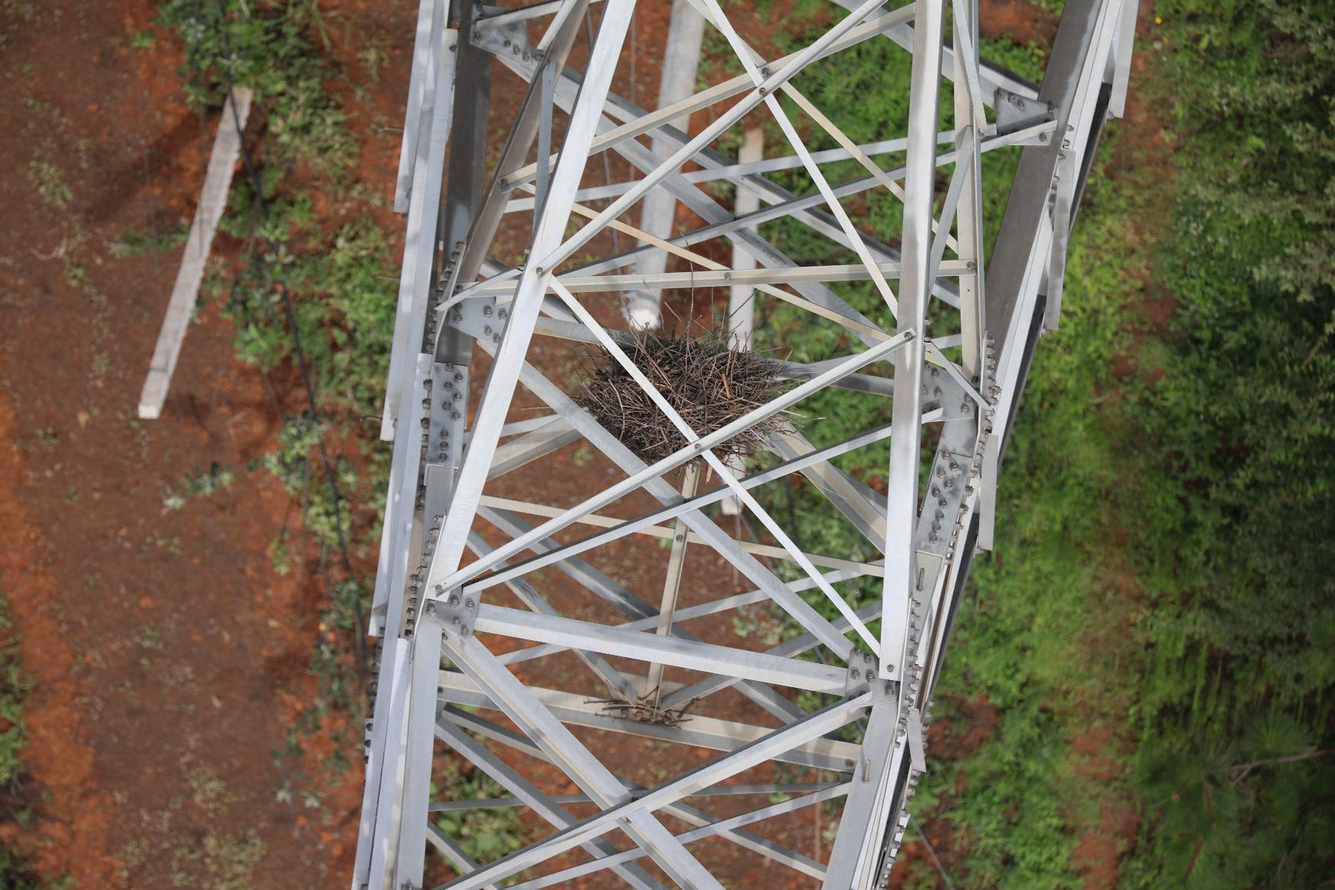nest: (576, 320, 797, 465)
